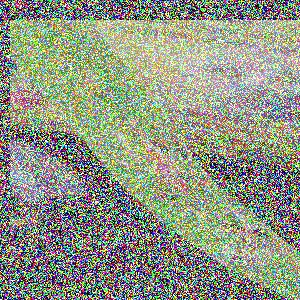Brown_Spot: (126, 121, 187, 163), (222, 198, 271, 247), (219, 238, 268, 287), (156, 162, 203, 189), (151, 186, 190, 212)
